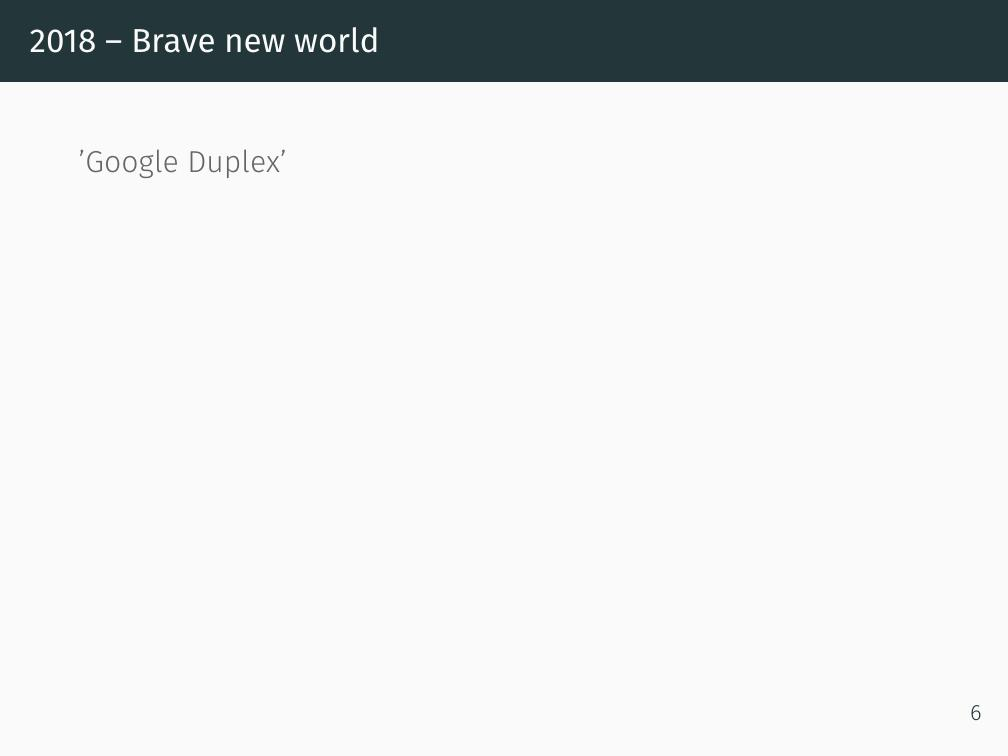Title: (23, 22, 382, 58)
